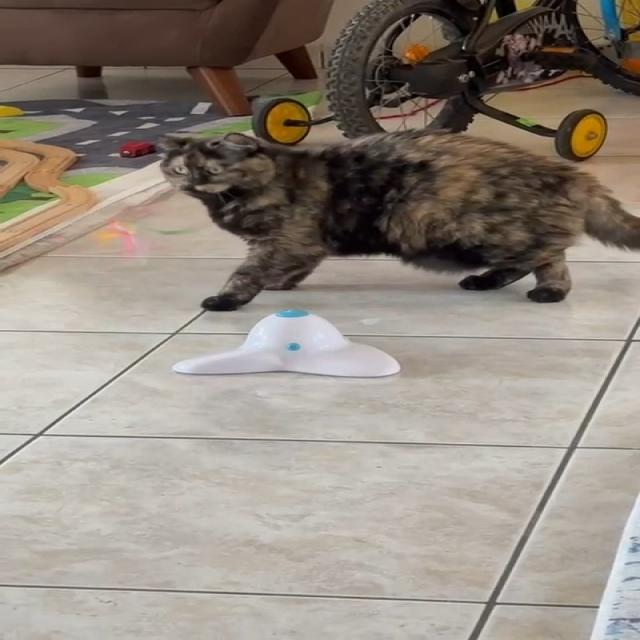authorized: (154, 127, 638, 311)
